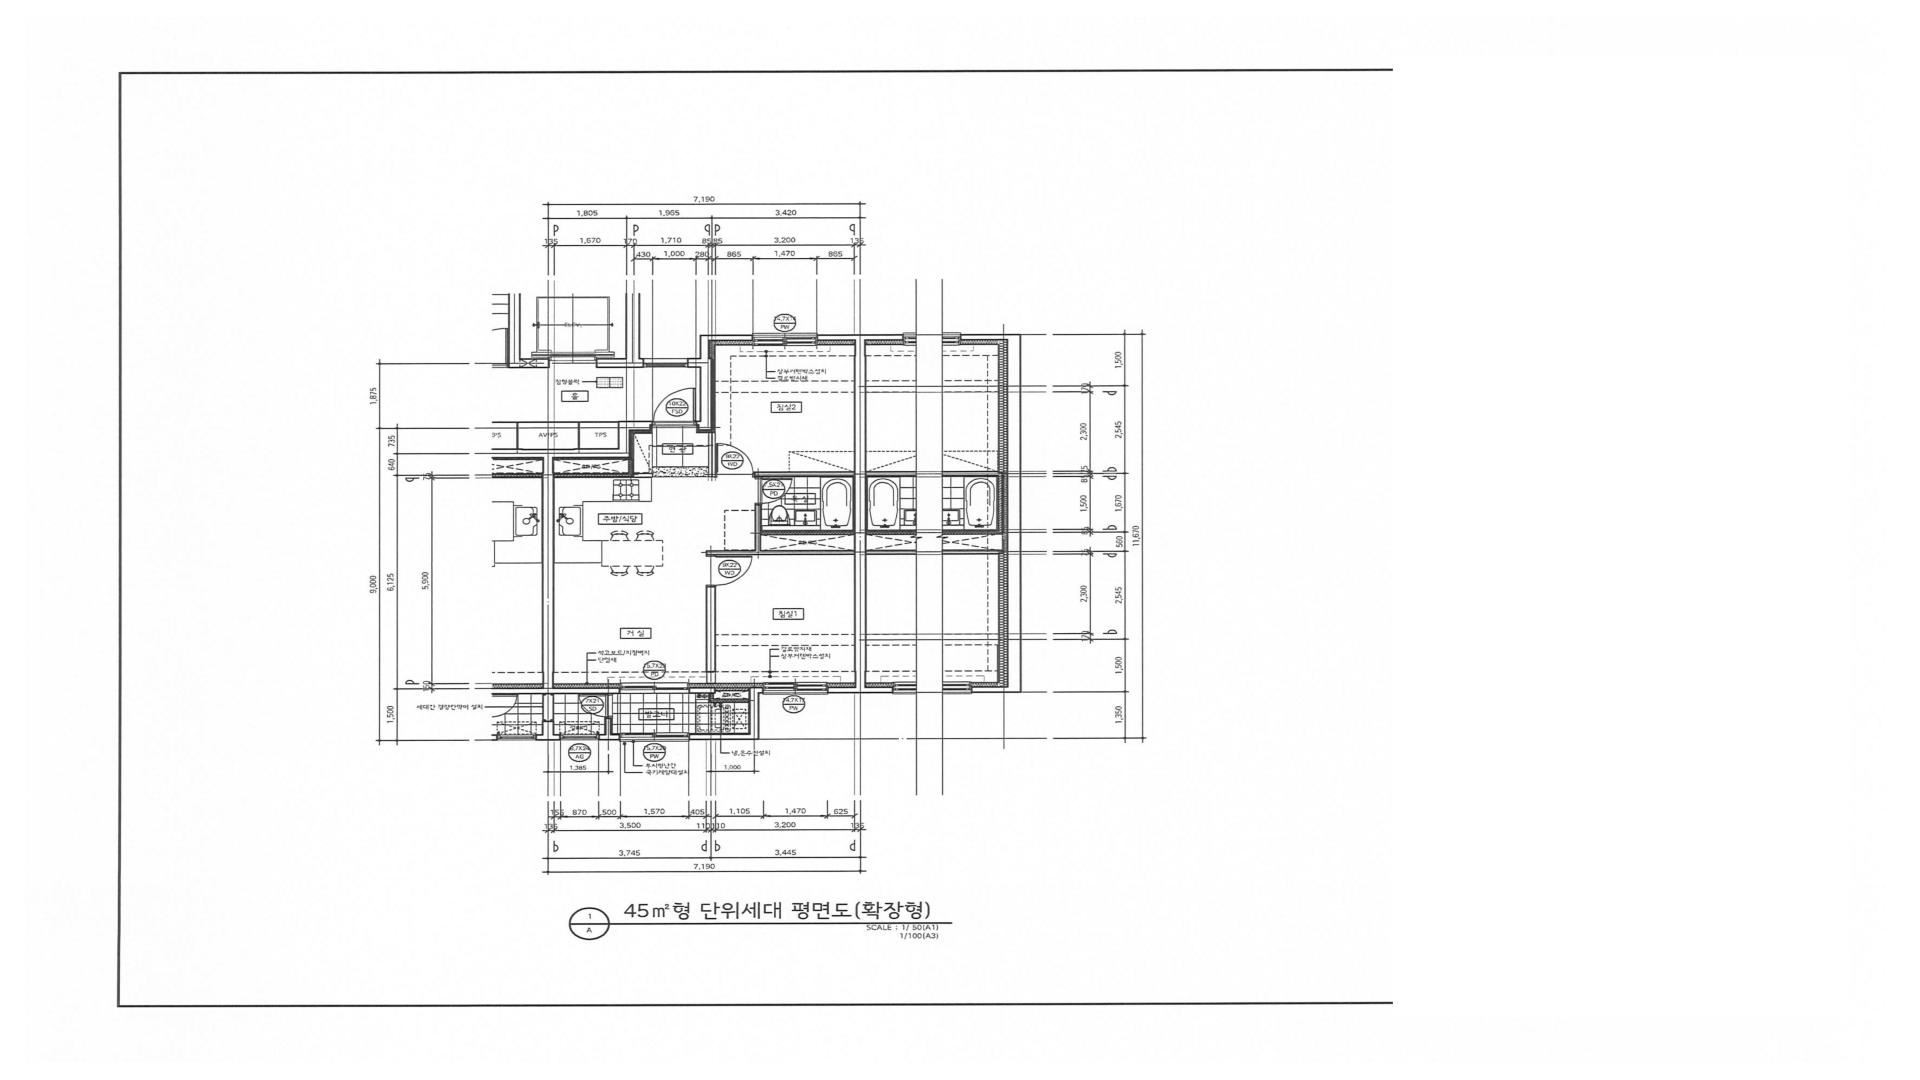door: (653, 388, 696, 425), (705, 555, 753, 587), (715, 443, 754, 477), (754, 477, 794, 505), (578, 694, 613, 719), (492, 328, 508, 368)
wall: (853, 340, 866, 694), (542, 458, 554, 694), (687, 340, 711, 430), (618, 421, 653, 458), (492, 448, 618, 458), (625, 293, 641, 359), (705, 587, 716, 683), (508, 294, 521, 359), (705, 550, 855, 555), (749, 687, 764, 733), (754, 471, 855, 477), (761, 530, 855, 535), (690, 733, 760, 740), (596, 359, 644, 368), (506, 359, 550, 368), (754, 505, 762, 550), (711, 694, 749, 703), (554, 688, 620, 694), (542, 694, 554, 721), (554, 473, 629, 477), (708, 433, 715, 477), (699, 335, 752, 340), (818, 335, 865, 340), (690, 687, 716, 694), (542, 721, 555, 735), (828, 687, 855, 694), (492, 422, 618, 423), (604, 717, 613, 735), (716, 687, 749, 691), (542, 735, 560, 741), (628, 459, 634, 477), (599, 735, 620, 740), (578, 423, 580, 448), (517, 423, 518, 448)
window: (762, 682, 828, 695), (620, 682, 690, 694), (752, 334, 818, 345), (620, 733, 690, 742), (644, 357, 687, 368), (560, 735, 599, 740)
